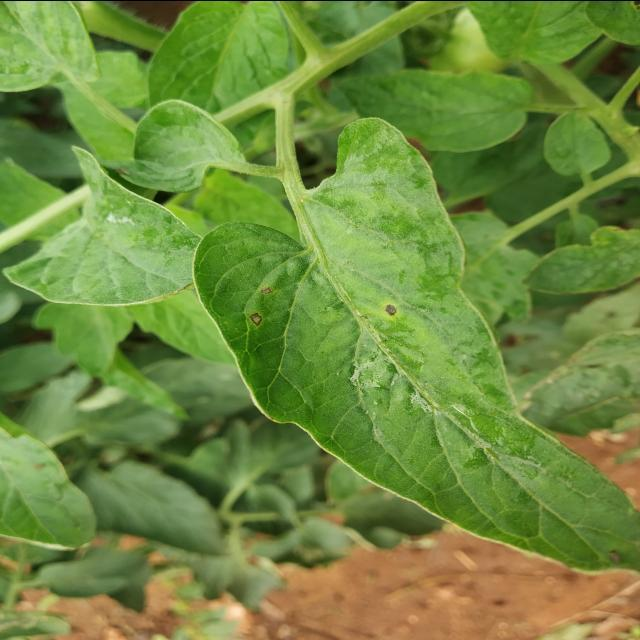Tomato mosaic virus leaf: (178, 107, 640, 588)
